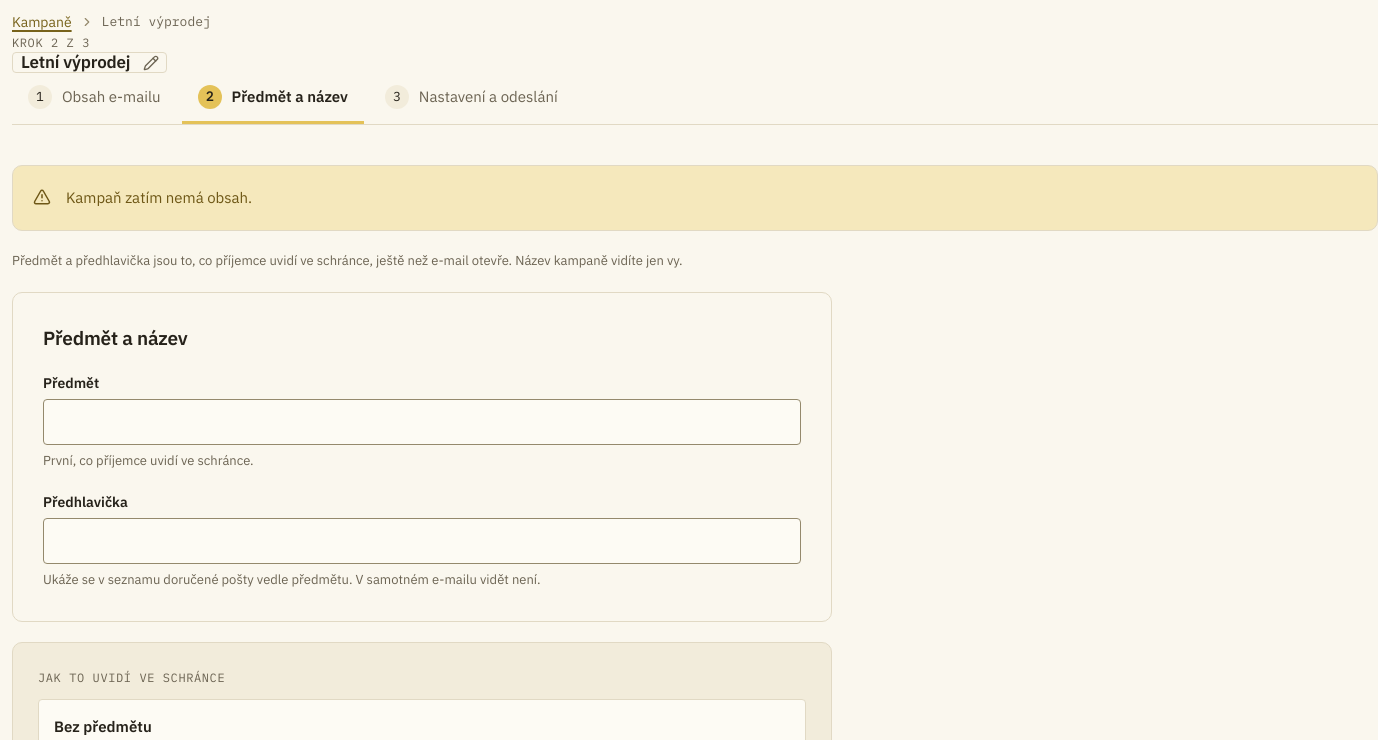
nastavení kampaně › předvyplní publikum, které kampaň už má
This screenshot has width=1378, height=740.
Click the button with test id "campaign-step-settings". click: (471, 98)
box: [369,73,574,124]
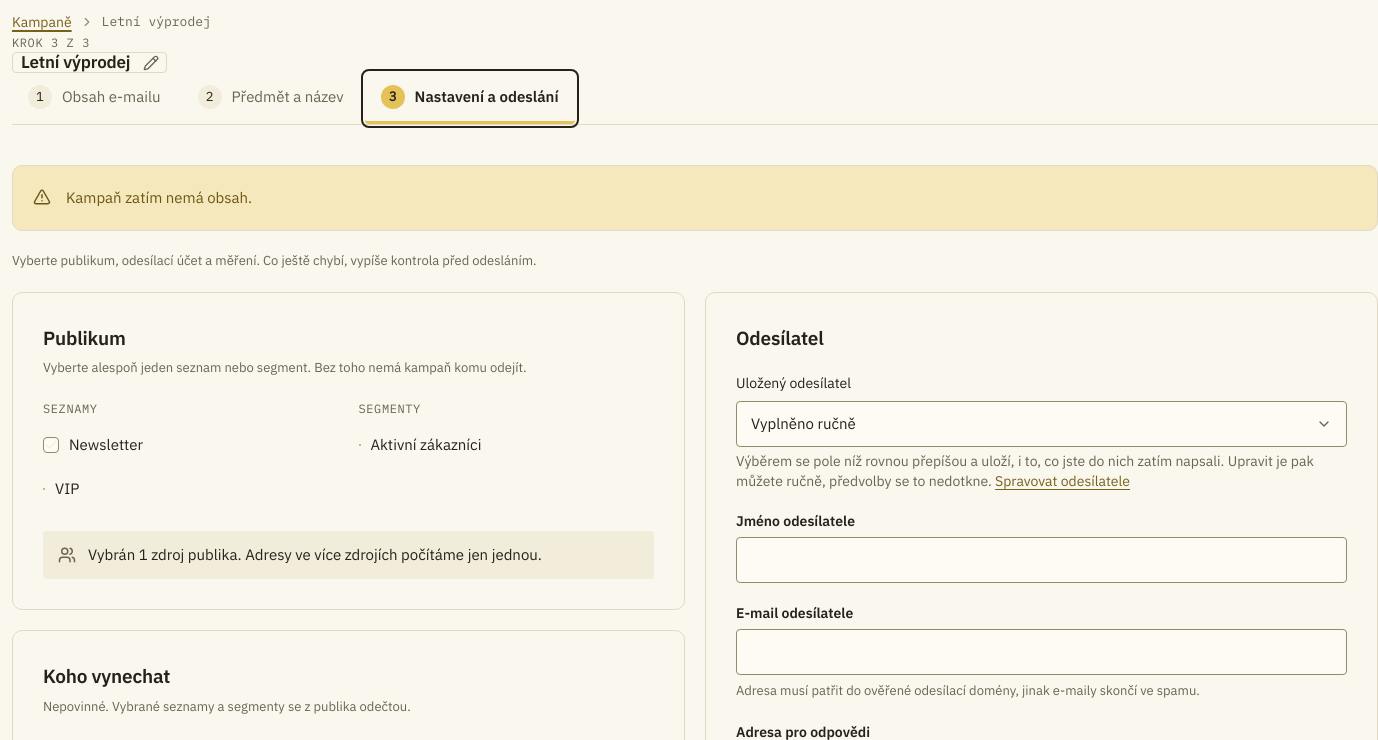
Expected: the 2nd checkbox named "Aktivní zákazníci" is not checked, [358,444,360,446]
Now the 1st checkbox named "Newsletter" is checked, box [43,437,59,453]
